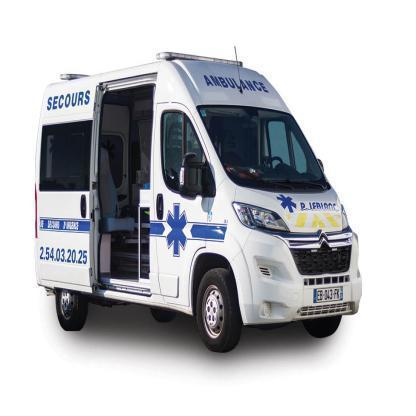ambulance_off: (34, 50, 364, 353)
